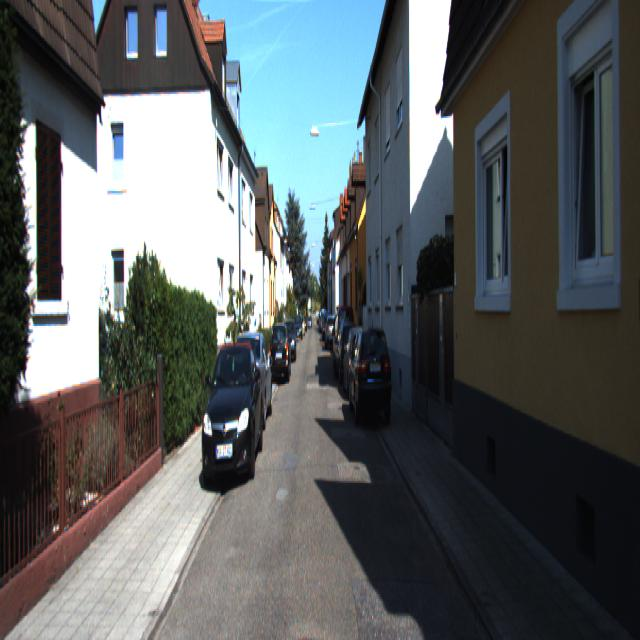Car: (200, 335, 264, 493), (348, 319, 393, 432), (229, 325, 273, 438), (342, 319, 375, 401), (333, 302, 355, 376), (269, 320, 291, 383), (326, 316, 338, 352)
